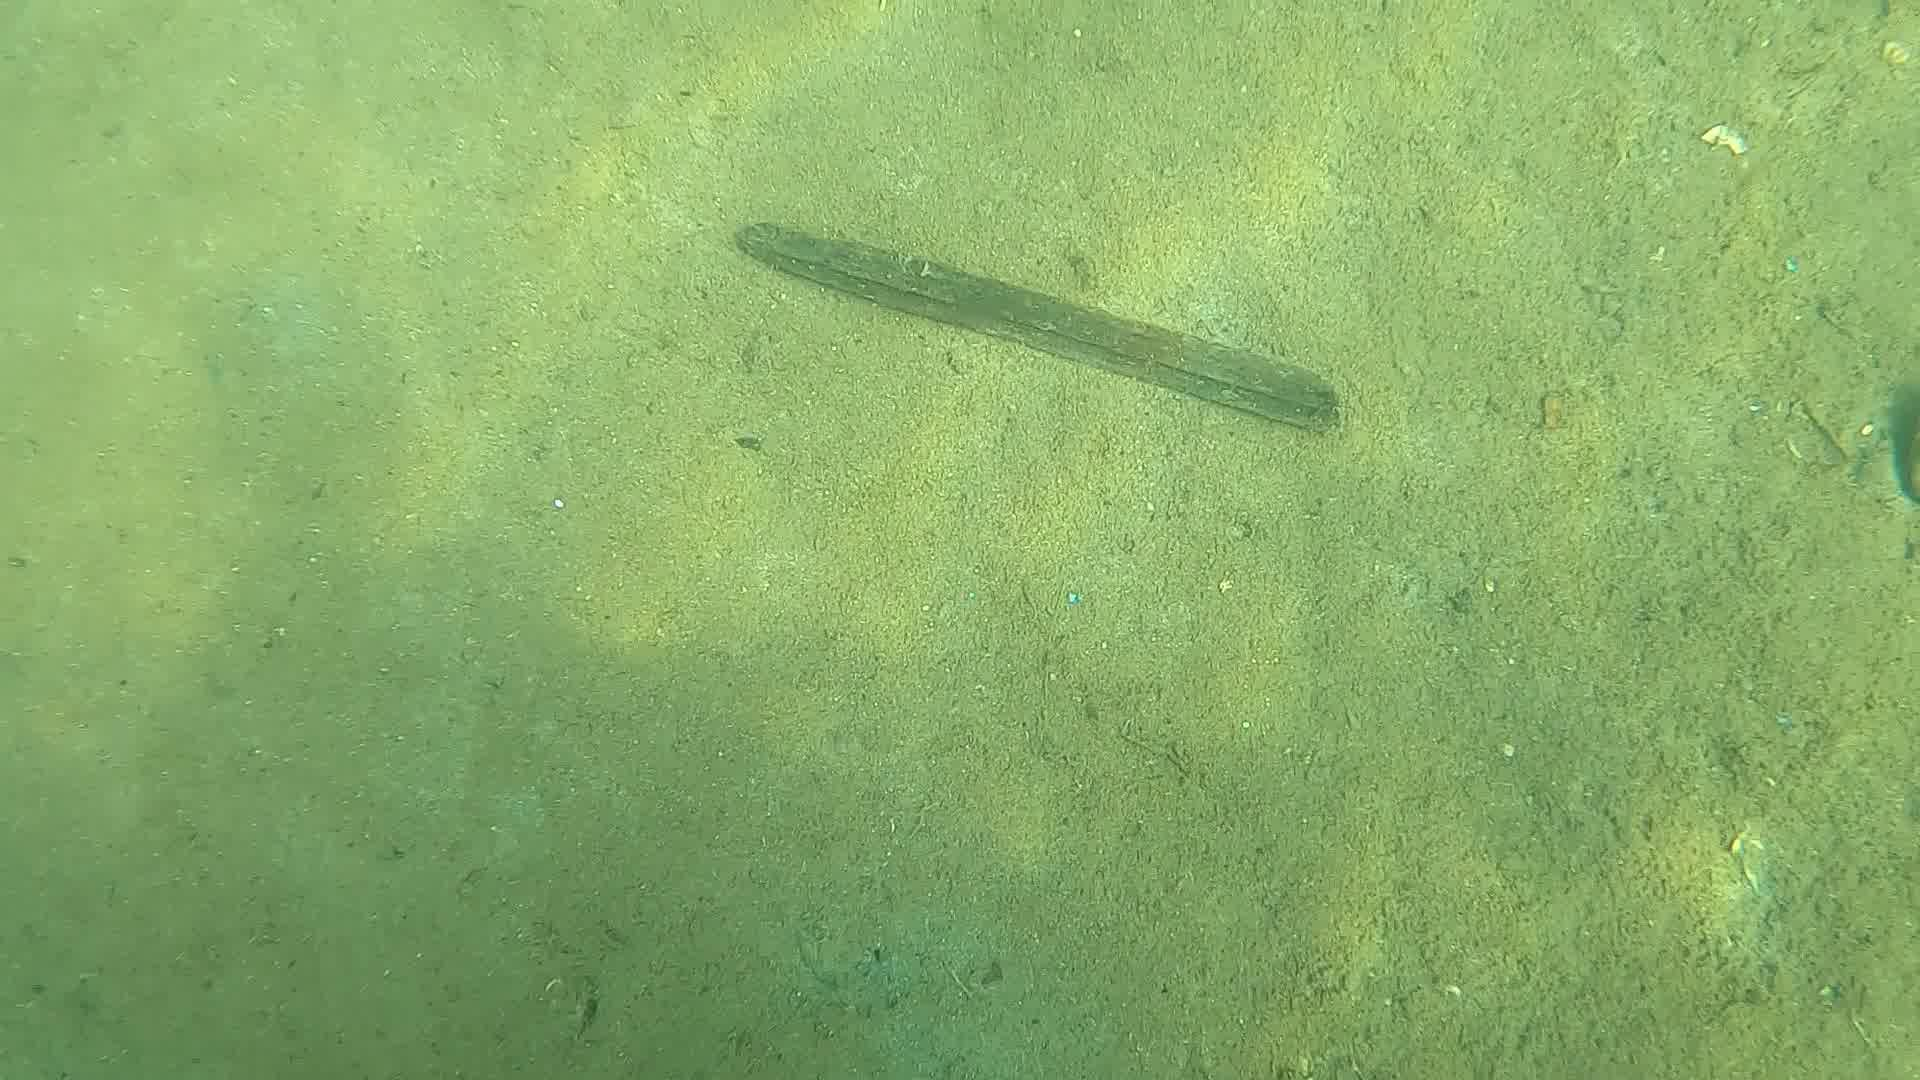wood: (732, 219, 1341, 433)
